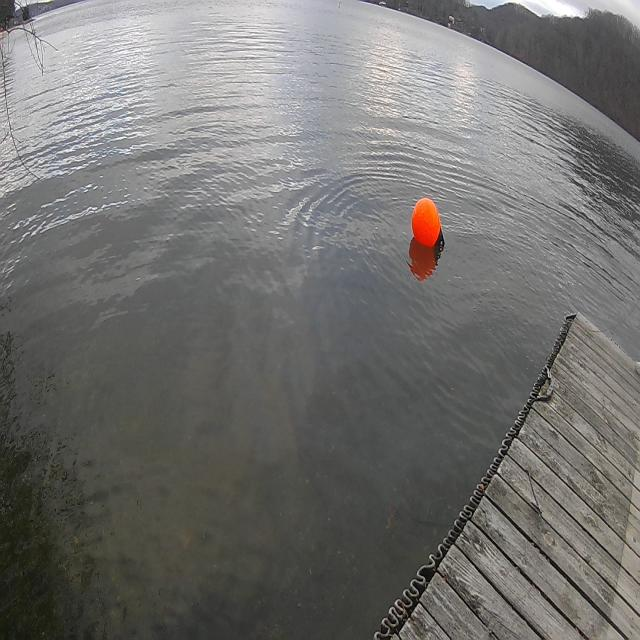Buoy: (408, 188, 448, 266)
